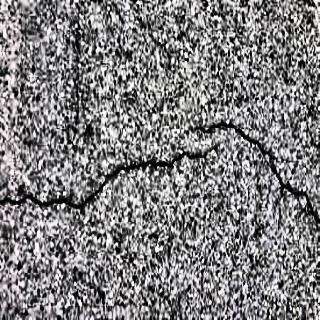crack: (5, 123, 320, 222)
